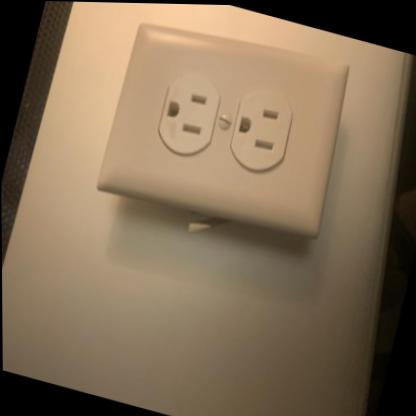OUTLET: (96, 8, 359, 249)
